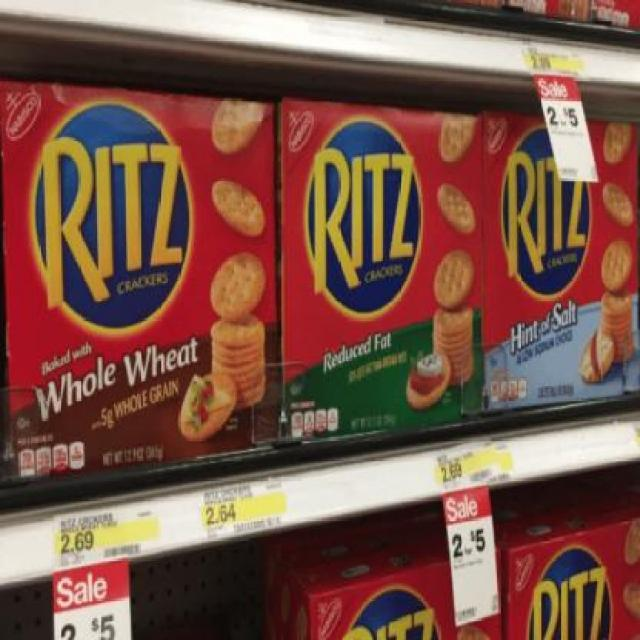Ritz cracker: (2, 64, 284, 483), (273, 76, 487, 447), (480, 100, 640, 418)
